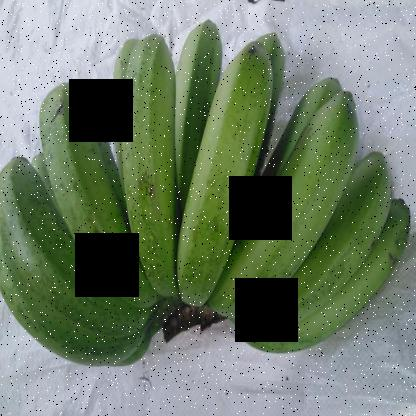unripe: (207, 68, 356, 341), (167, 26, 280, 311), (31, 63, 136, 323), (110, 34, 189, 315)
